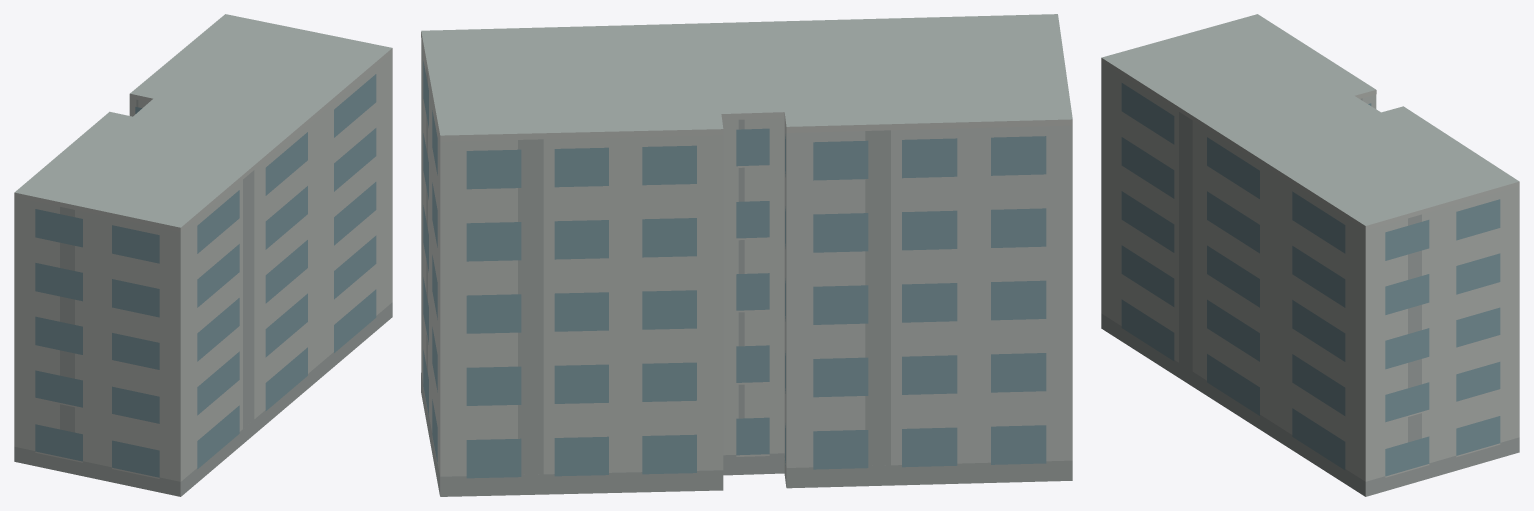
The model's file is survey-upis-32889289.glb.
3 views of the same model, side by side, from view 1: azimuth 30°, elevation 25°; view 2: azimuth 150°, elevation 25°; view 3: azimuth 270°, elevation 25° (orthographic). The views are drawn at different scales.
Parts seen in each view (by area): view 1: survey-upis-32889289.tmp; view 2: survey-upis-32889289.tmp; view 3: survey-upis-32889289.tmp.
Boxes of the visible parts, box(x1,y1,x2,y2) form: survey-upis-32889289.tmp: box(14, 14, 392, 496); survey-upis-32889289.tmp: box(421, 14, 1072, 496); survey-upis-32889289.tmp: box(1101, 14, 1519, 496).
Size of the model in its own units: 24.02 by 14.3 by 20.02.
